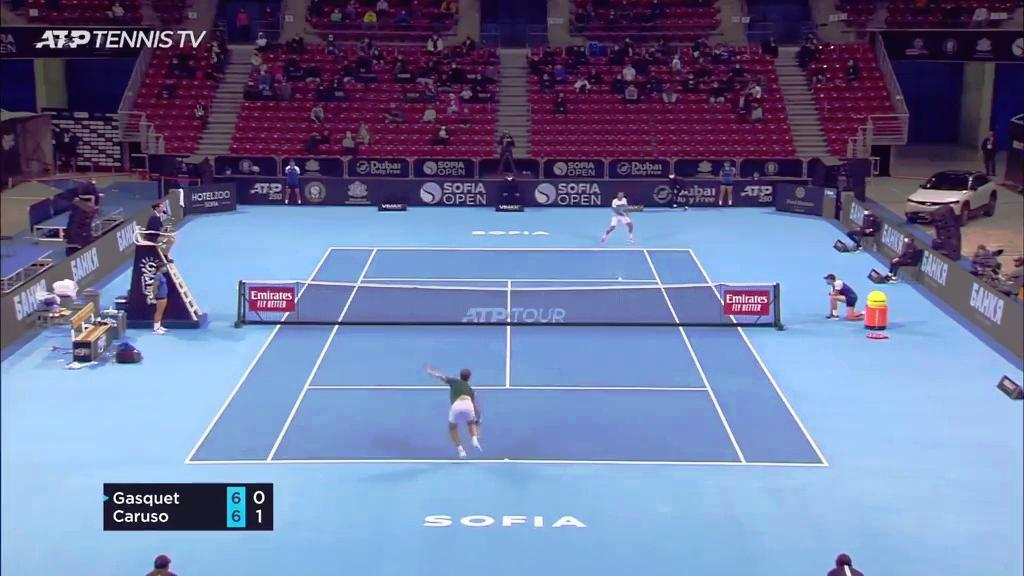tennis-court: (183, 247, 831, 466)
